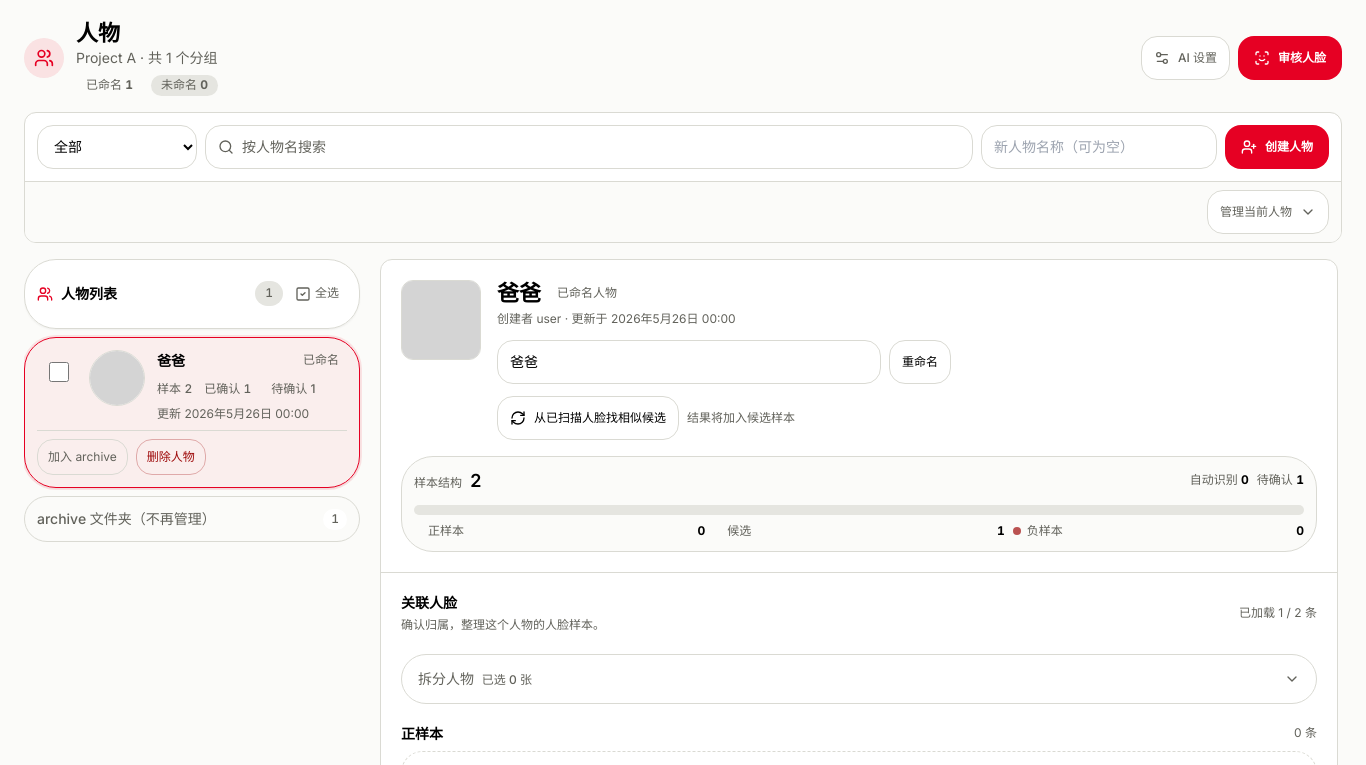
Test: PeoplePage › hides system_cluster people when they have no review-pending faces
The width and height of the screenshot is (1366, 765).
Expected: the 2nd heading "爸爸" is shown, [157, 352, 185, 368]
Expected: the text "人物 2" is not shown
Click the text "archive 文件夹（不再管理）" at (126, 519), box [37, 510, 216, 529]
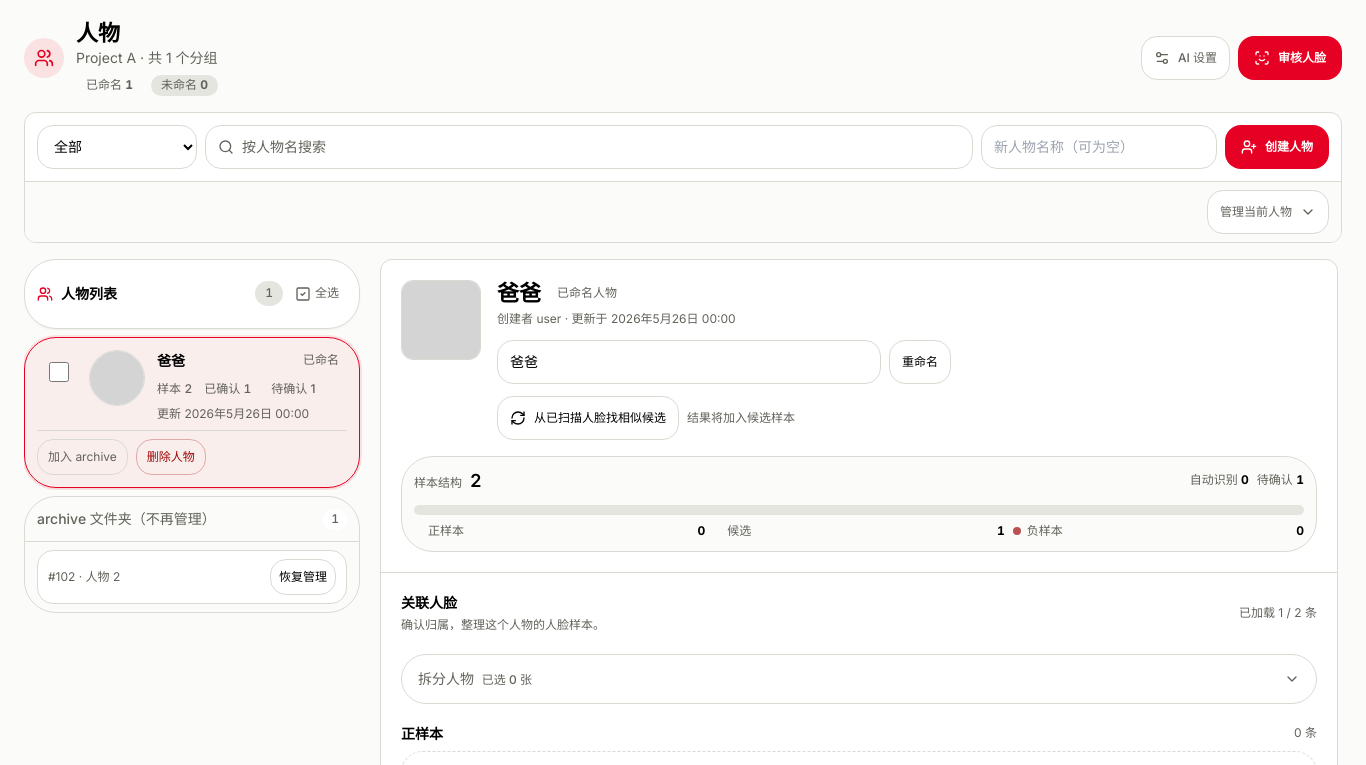
Now the button "#102 · 人物 2" is shown, box [48, 569, 120, 586]
